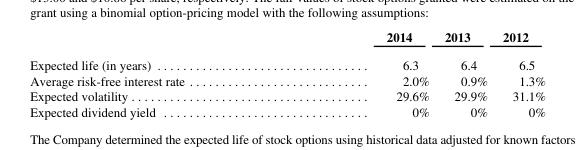table: (29, 28, 545, 118)
table column: (29, 28, 284, 118), (284, 28, 436, 118), (436, 28, 494, 118), (494, 28, 545, 118)
table column header: (29, 28, 545, 50)
table row: (29, 28, 545, 50), (29, 50, 545, 72), (29, 72, 545, 88), (29, 88, 545, 103), (29, 103, 545, 118)
